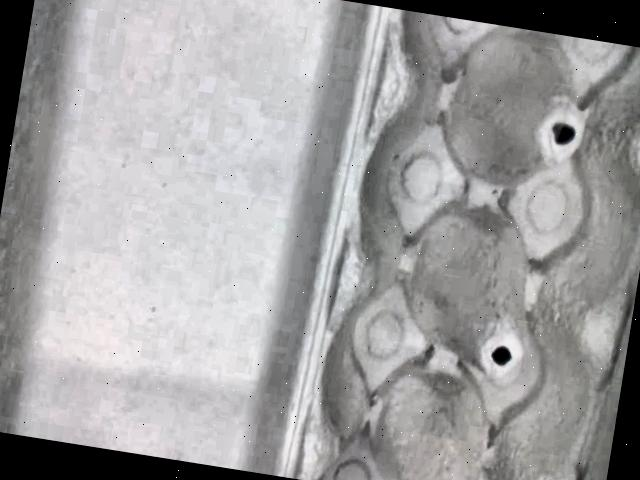Paper: (275, 5, 640, 480)
